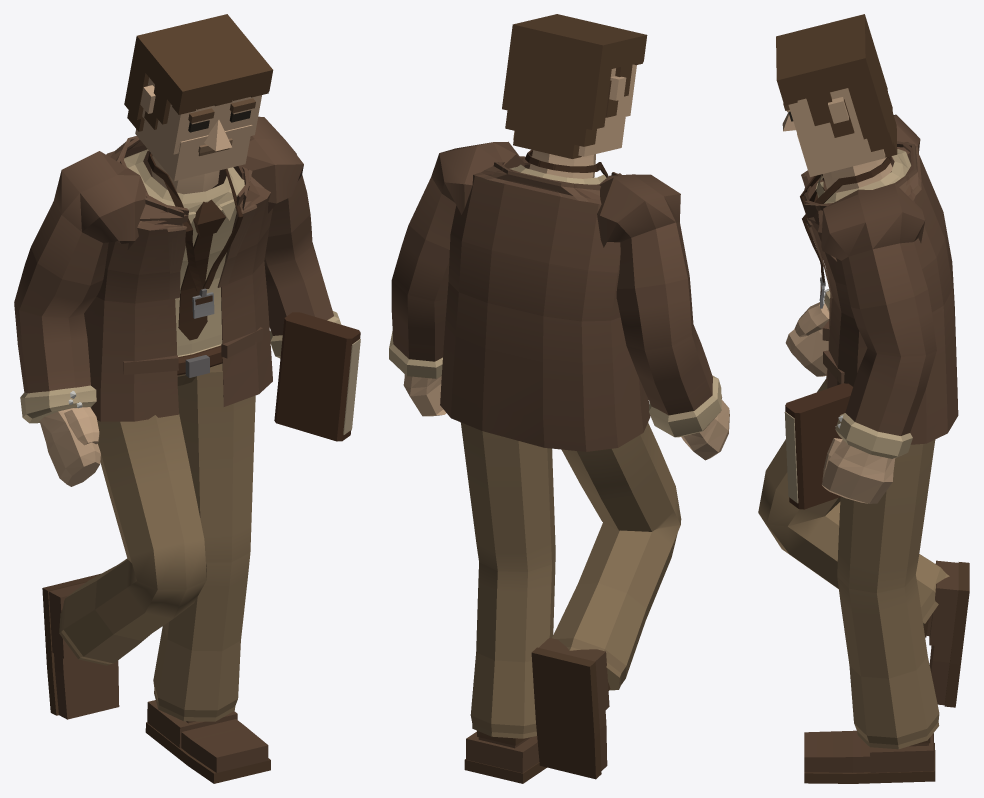
The model's file is school-teacher-8b8bfc__walk2.glb.
The picture shows the model from 3 angles, left to right: view 1: azimuth 30°, elevation 25°; view 2: azimuth 150°, elevation 25°; view 3: azimuth 270°, elevation 25°; orthographic projection. The views are drawn at different scales.
Parts seen in each view (by area): view 1: school-teacher-8b8bfc__walk2; view 2: school-teacher-8b8bfc__walk2; view 3: school-teacher-8b8bfc__walk2.
Part boxes in pixels (<box>): school-teacher-8b8bfc__walk2: <box>14,14,360,783</box>; school-teacher-8b8bfc__walk2: <box>389,14,729,783</box>; school-teacher-8b8bfc__walk2: <box>758,14,969,783</box>.
Bounding box in the file's own units: 0.7903 × 1.72 × 0.4568.
